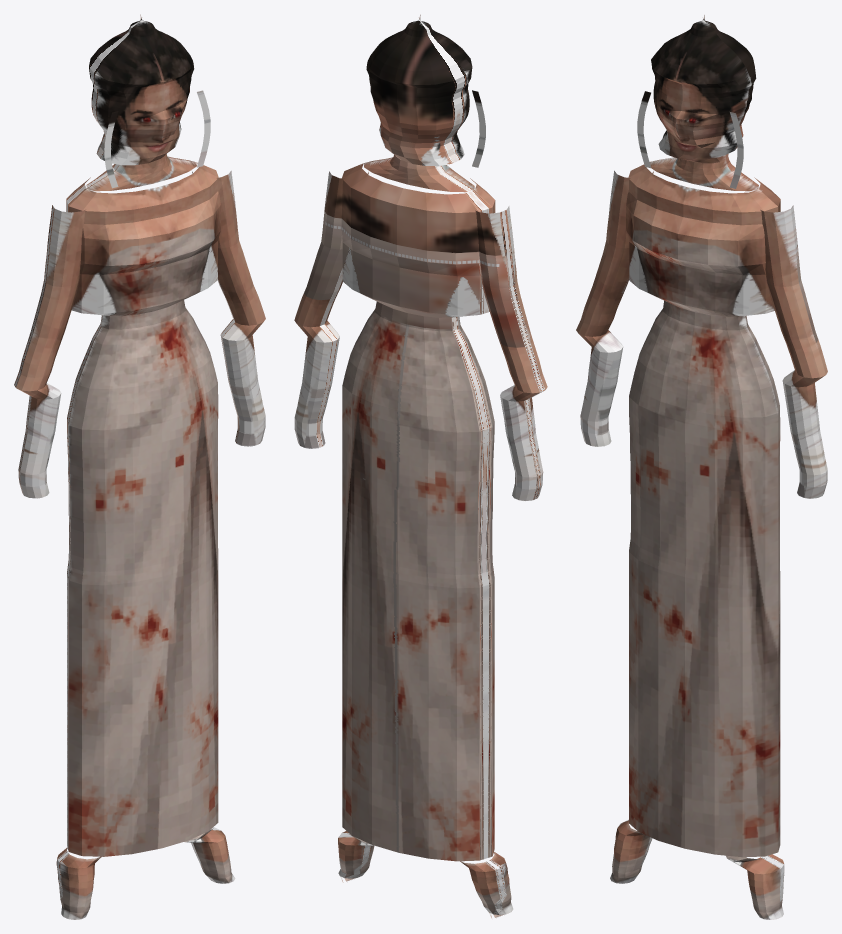
File: bossgame.glb
3 renders of one model, left to right at view 1: azimuth 30°, elevation 25°; view 2: azimuth 150°, elevation 25°; view 3: azimuth 330°, elevation 25°, orthographic.
Parts seen in each view (by area): view 1: geometry_0; view 2: geometry_0; view 3: geometry_0.
Part boxes in pixels (bbox=[...]): geometry_0: bbox=[14, 14, 265, 919]; geometry_0: bbox=[294, 14, 547, 918]; geometry_0: bbox=[576, 15, 827, 919].
Size of the model in its own units: 0.5419 by 1.84 by 0.1959.
1 material, 1 textured.
